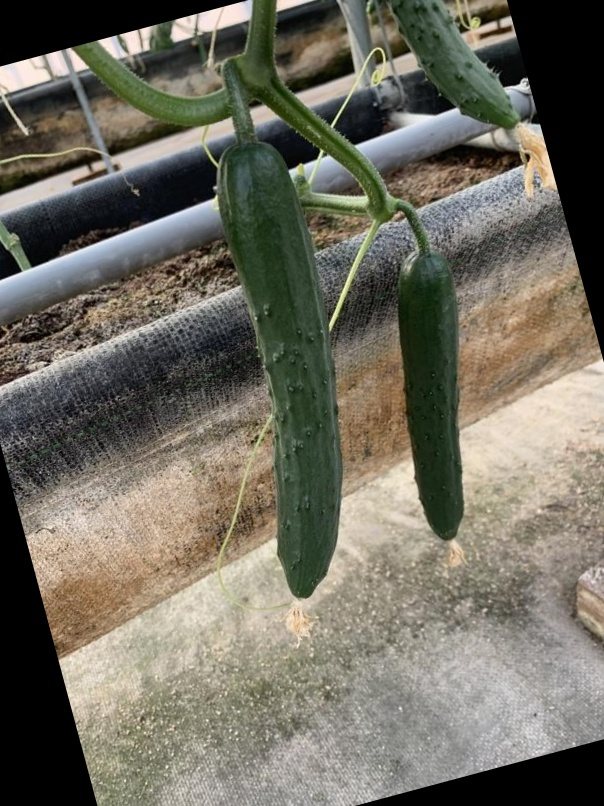mature: (213, 133, 351, 610), (391, 240, 468, 544)
